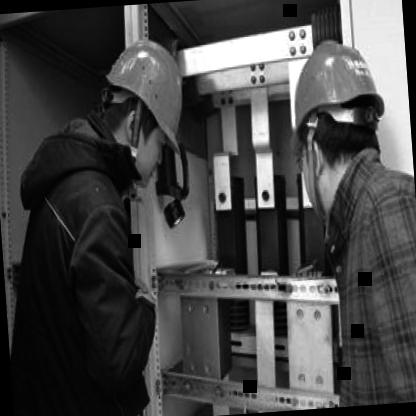helmet: (282, 24, 392, 190), (94, 32, 193, 178)
